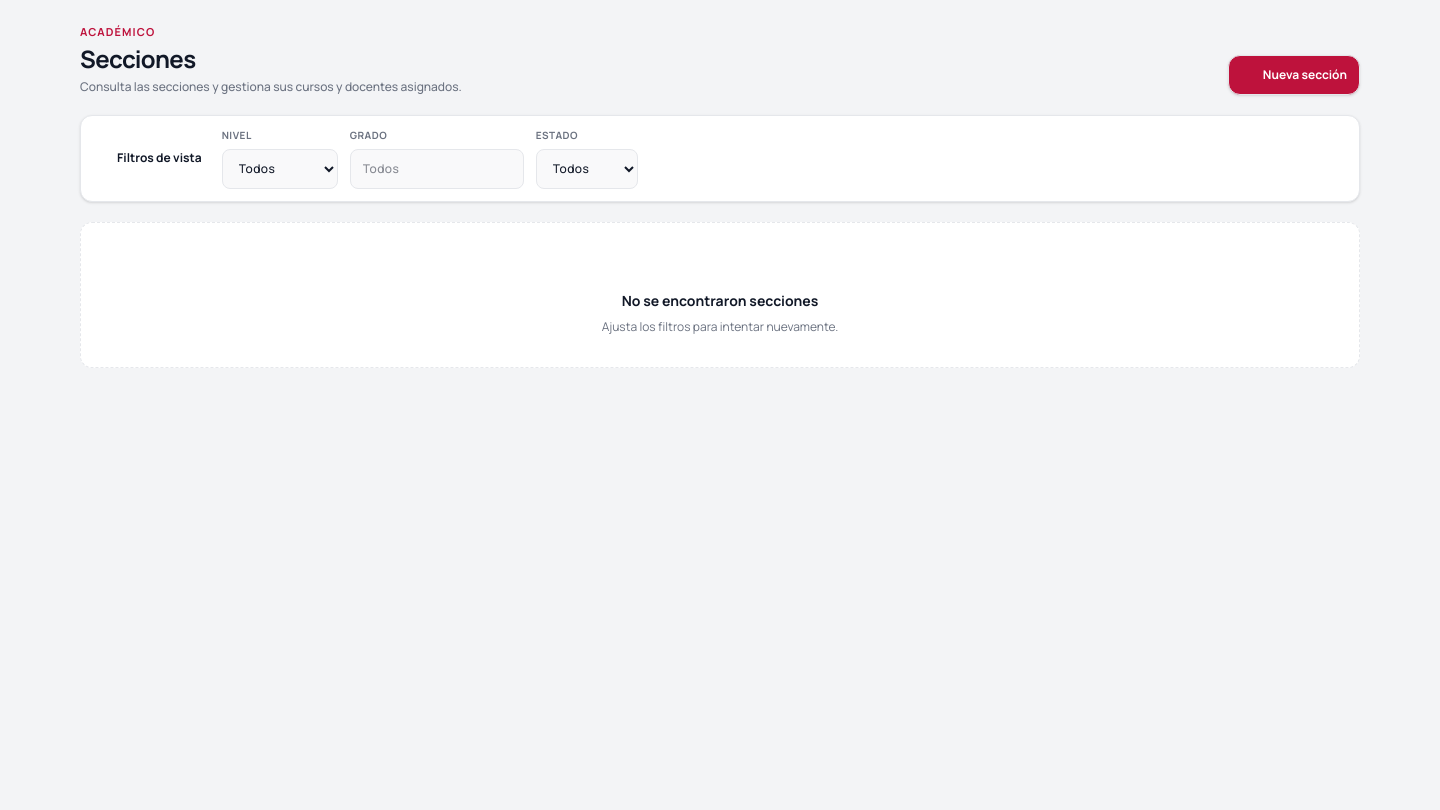
Test: create shows a fixed message on 409 and keeps the modal open
Click the button "Nueva sección" at {"x": 1294, "y": 74}, box [1228, 54, 1360, 94]
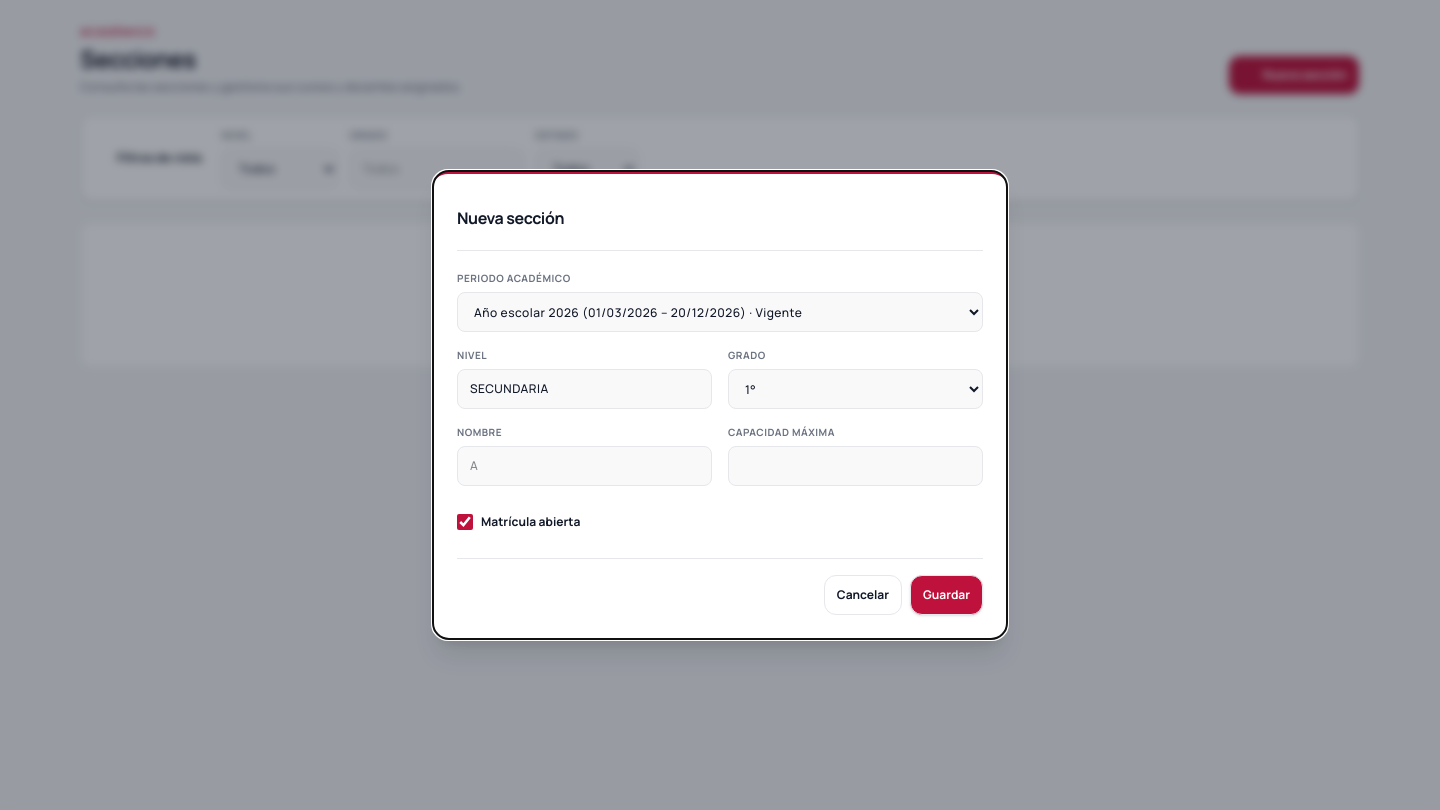
Click the field labelled "Nombre" at {"x": 584, "y": 466}, box [457, 446, 712, 486]
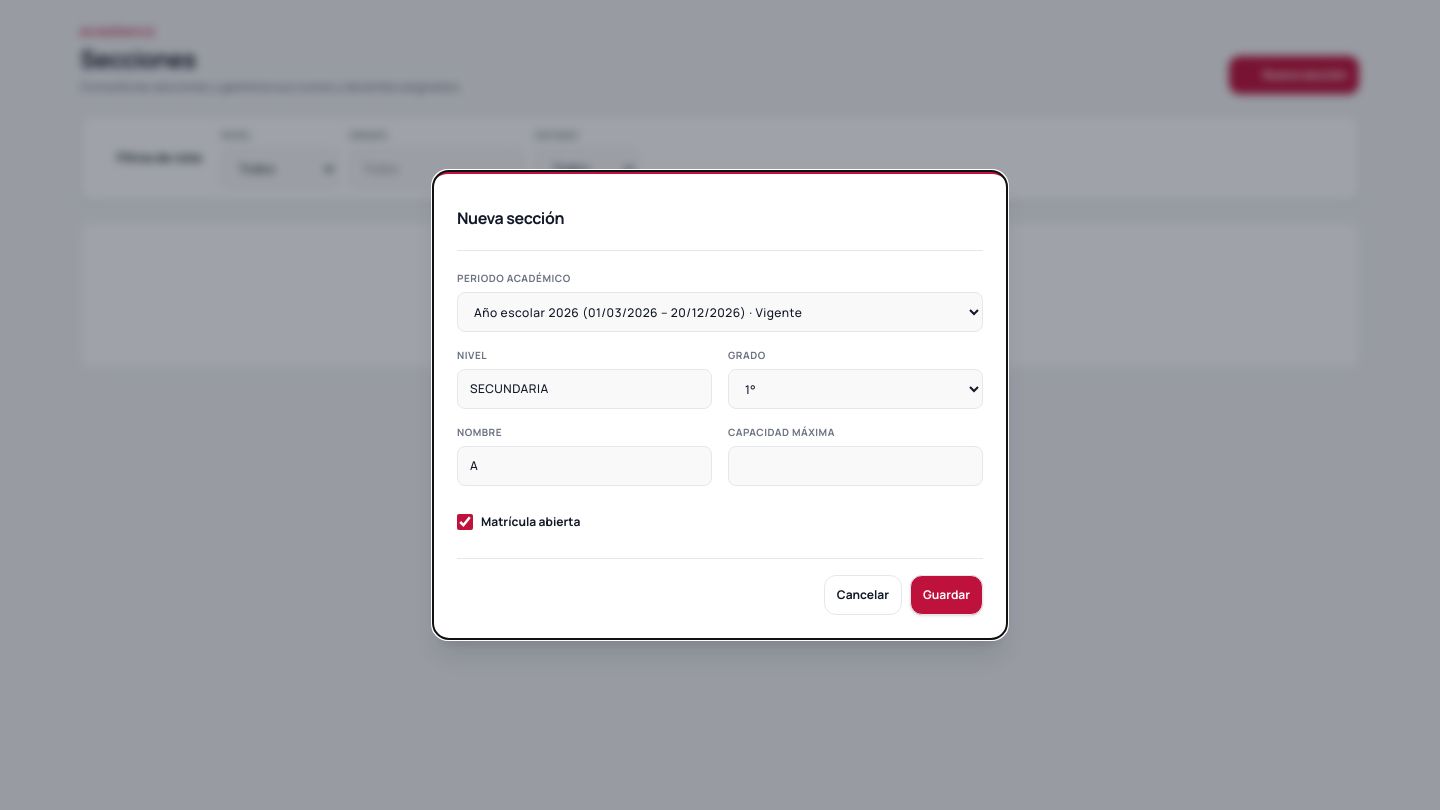
Click the number field labelled "Capacidad máxima" at {"x": 856, "y": 466}, box [728, 446, 983, 486]
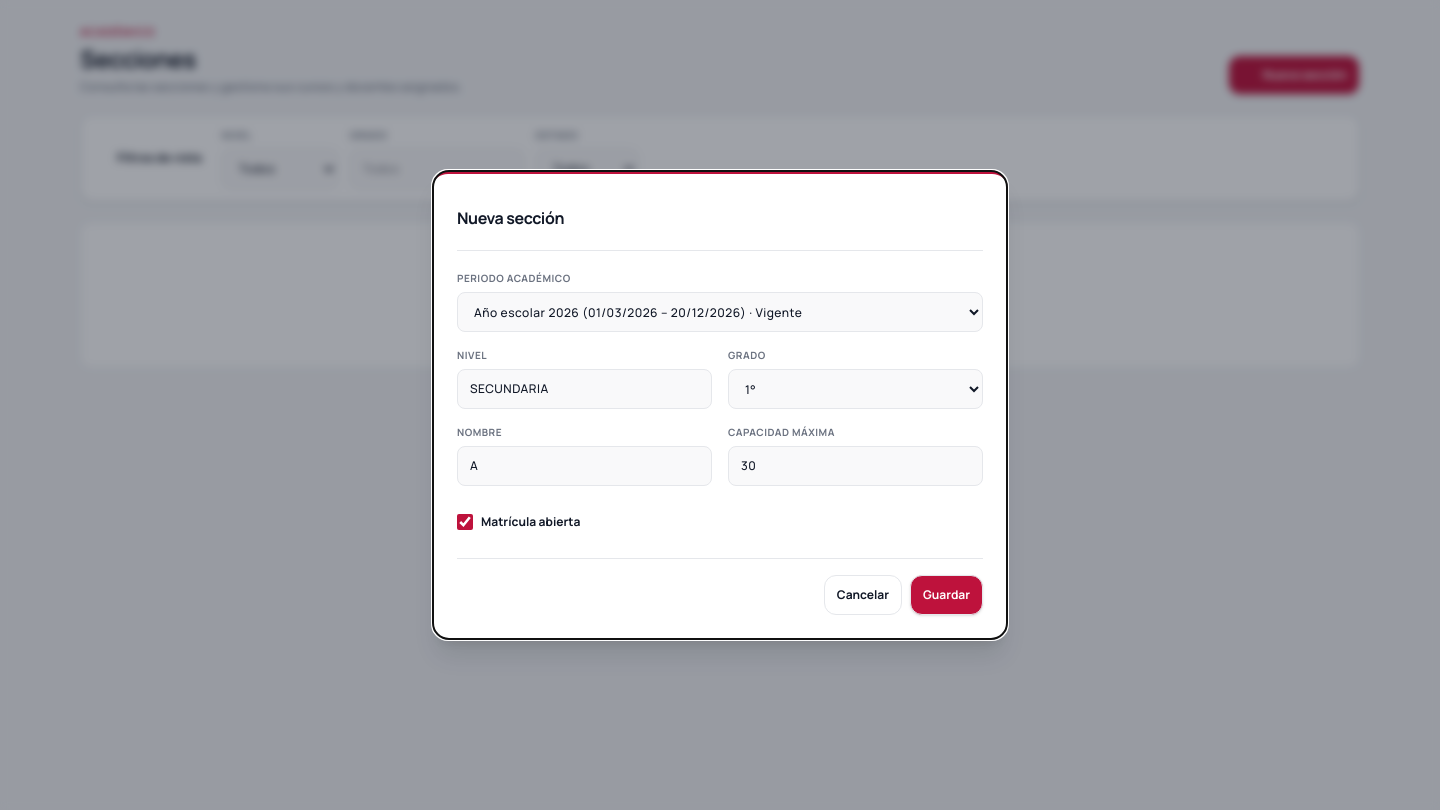
Submit the form, box [457, 271, 983, 615]
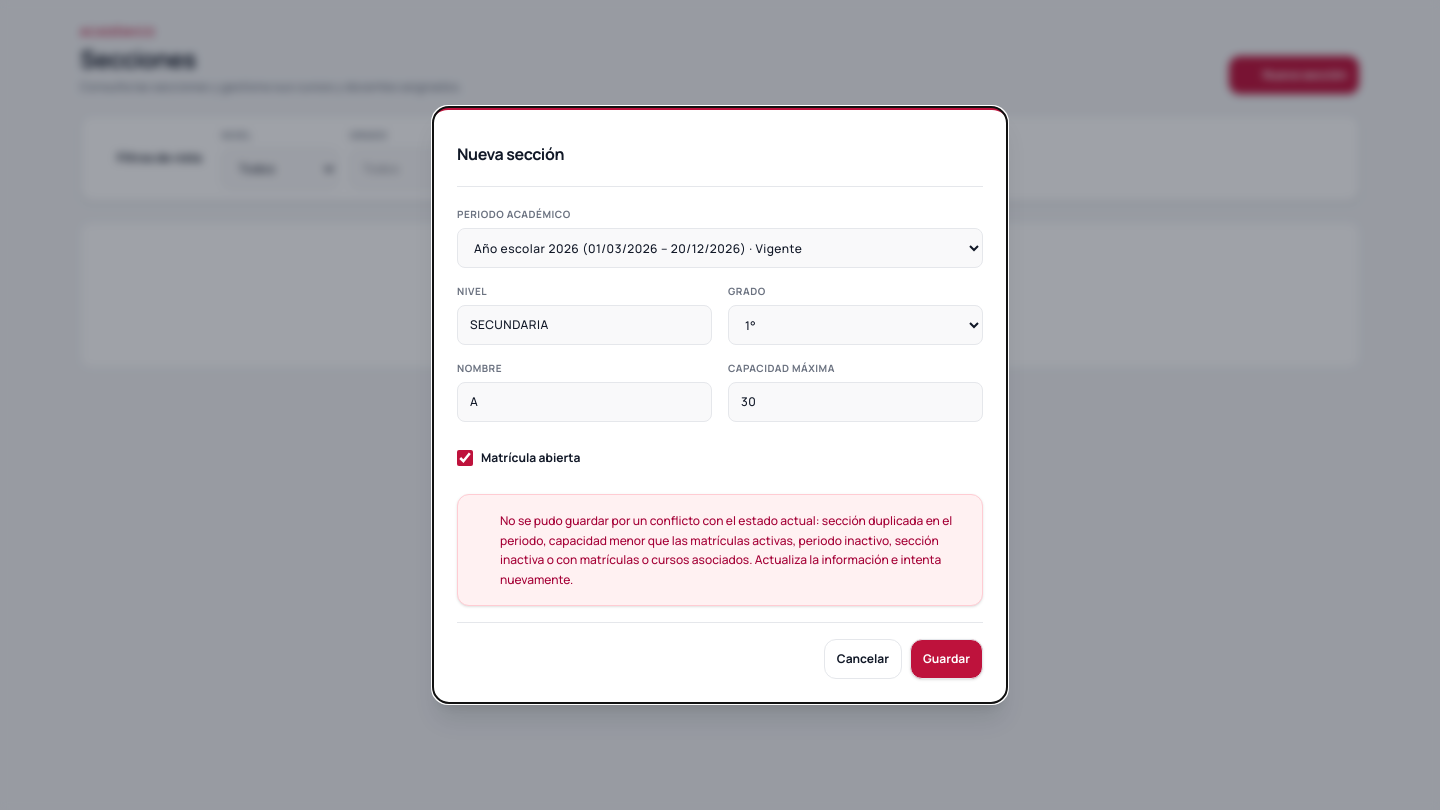
Check: the form is shown, box [457, 207, 983, 679]
Check: the text "conflicto con el estado actual" is shown, box [500, 512, 955, 588]
